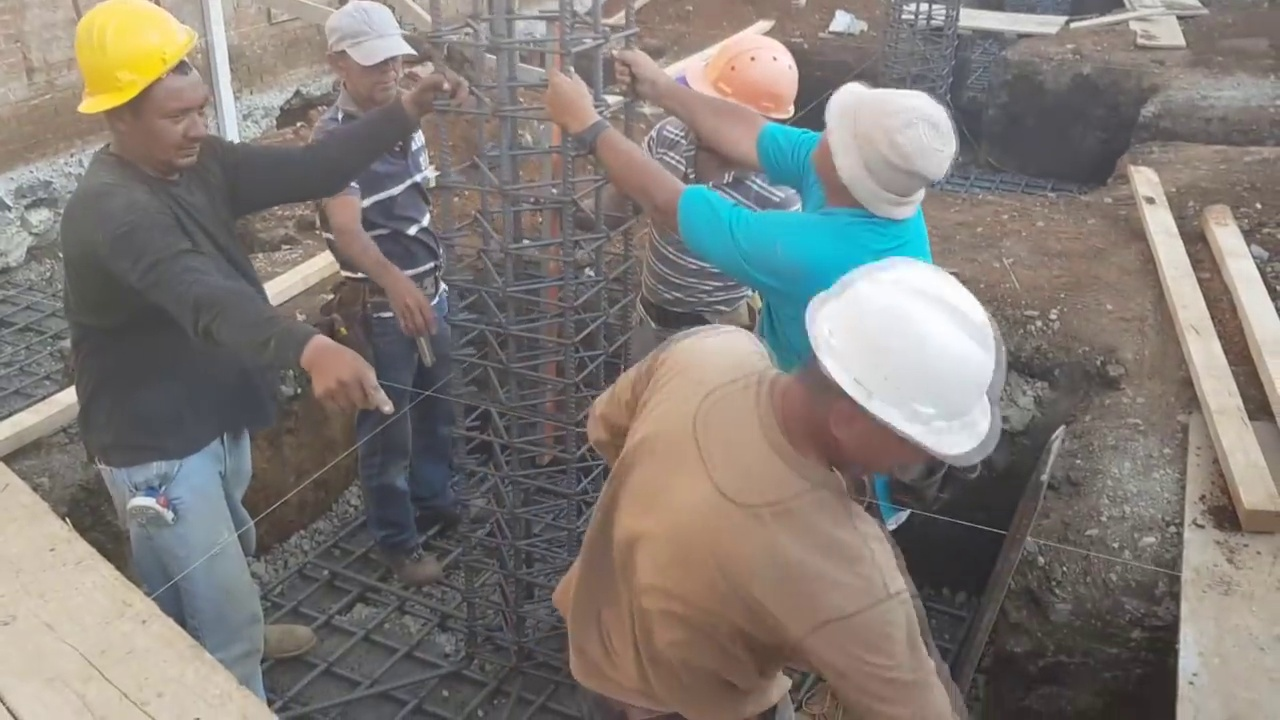helmet: (801, 262, 998, 469), (69, 0, 196, 119)
helmet-off: (807, 82, 971, 225), (319, 0, 419, 116)
helmet-on: (720, 224, 1005, 483), (58, 2, 218, 194), (663, 36, 801, 155)
person: (51, 0, 447, 700), (556, 221, 1004, 720), (549, 33, 973, 371), (305, 2, 469, 572), (621, 36, 801, 365)
